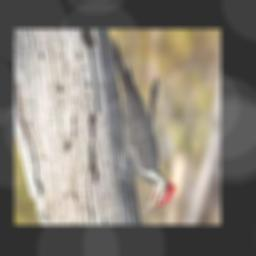Woodpecker: (109, 36, 176, 217)
